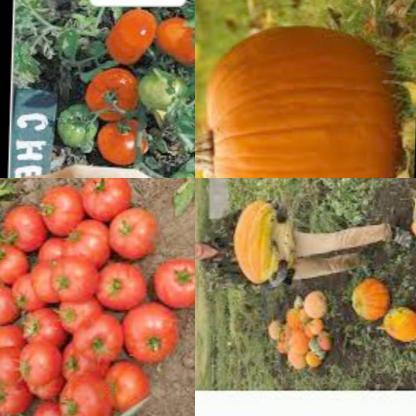pumpkin: (195, 19, 402, 178), (263, 291, 336, 370), (236, 196, 284, 286), (344, 273, 393, 322), (374, 302, 416, 345), (406, 198, 416, 245)
tomato: (98, 0, 174, 74), (72, 62, 152, 124), (115, 305, 181, 364), (89, 117, 158, 169), (103, 207, 157, 263), (49, 98, 107, 148), (150, 253, 195, 311), (71, 310, 123, 359), (98, 363, 151, 408), (152, 12, 195, 65), (55, 376, 110, 416), (0, 204, 44, 252), (99, 264, 143, 312), (38, 185, 80, 234), (79, 178, 130, 218), (64, 222, 115, 262), (47, 257, 94, 298), (12, 345, 60, 385), (139, 72, 189, 110), (58, 342, 103, 383), (51, 298, 99, 333), (22, 312, 62, 350), (10, 274, 43, 311), (0, 378, 31, 416), (0, 346, 27, 388), (0, 242, 25, 281), (0, 282, 20, 324), (0, 327, 21, 356), (27, 406, 66, 416)
